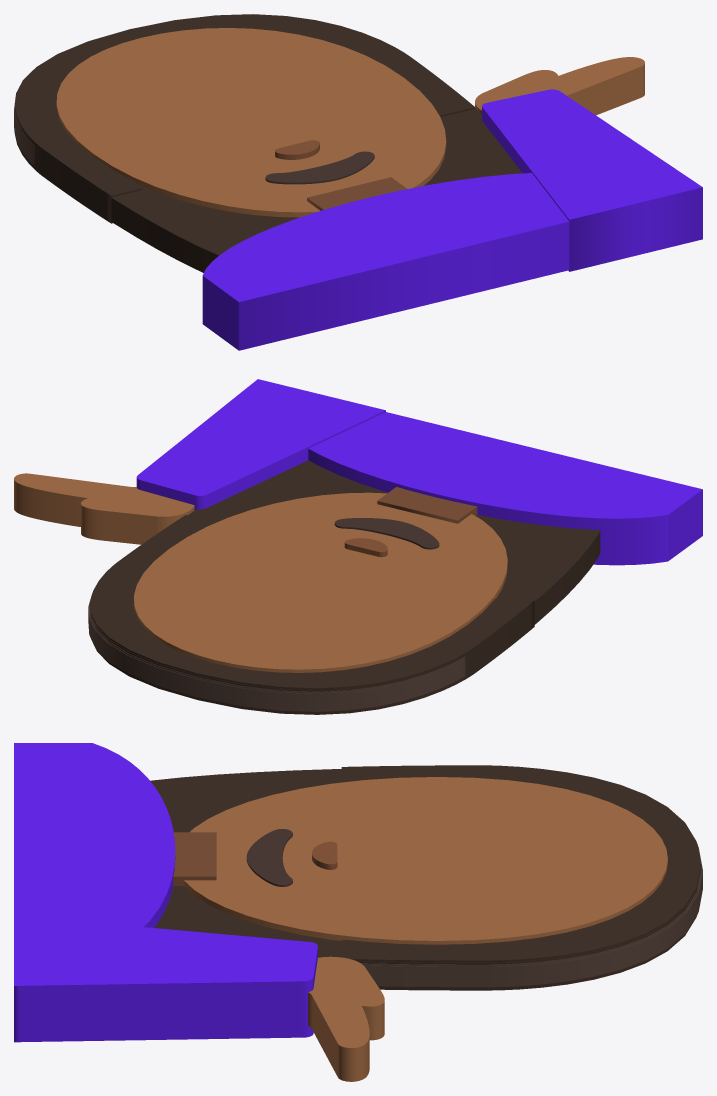
File: emoji_u1f481_1f3fe_200d_2640.glb
3 views of the same model, one above another, from view 1: azimuth 30°, elevation 25°; view 2: azimuth 150°, elevation 25°; view 3: azimuth 270°, elevation 25° (orthographic). The views are drawn at different scales.
Visible parts, largest first — view 1: emoji_u1f481_1f3fe_200d_2640; view 2: emoji_u1f481_1f3fe_200d_2640; view 3: emoji_u1f481_1f3fe_200d_2640.
Part boxes in pixels (x1,y1,x2,y2): emoji_u1f481_1f3fe_200d_2640: (14,14,702,350); emoji_u1f481_1f3fe_200d_2640: (14,379,702,714); emoji_u1f481_1f3fe_200d_2640: (14,743,702,1081).
Bounding box in the file's own units: 0.0338 × 0.003 × 0.0333.
